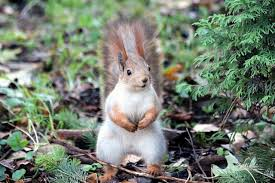Ardilla: (91, 50, 172, 172)
